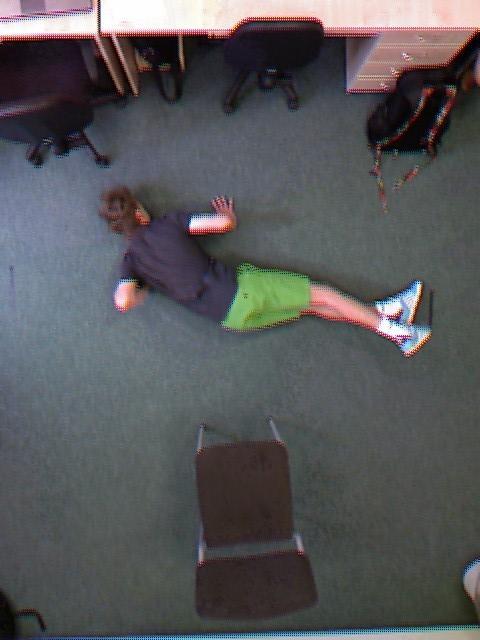fall: (191, 37, 330, 498)
